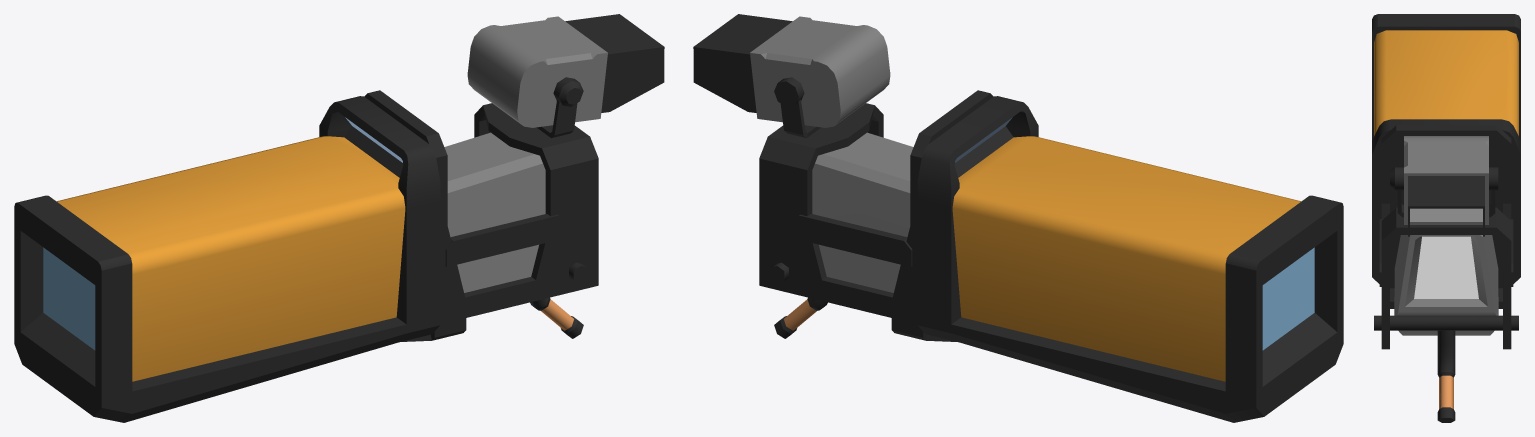
File: camara.fbx
3 renders of one model, left to right at view 1: azimuth 30°, elevation 25°; view 2: azimuth 150°, elevation 25°; view 3: azimuth 270°, elevation 25°, orthographic. The views are drawn at different scales.
Visible parts, largest first — view 1: Cube.001, Cube, Cube.003, Cube.002, Cylinder.003, Cylinder.004, Cylinder.001; view 2: Cube.001, Cube, Cube.003, Cube.002, Cylinder.003, Cylinder.004, Cylinder.001; view 3: Cube.001, Cube.002, Cube.003, Cube, Cube.004, Cylinder.003, Cylinder.001, Cylinder.004.
Part boxes in pixels (x1=…): Cube.001: x1=14, y1=96, x2=440, y2=422; Cube: x1=364, y1=90, x2=598, y2=341; Cube.003: x1=467, y1=14, x2=664, y2=127; Cube.002: x1=444, y1=132, x2=545, y2=292; Cylinder.003: x1=530, y1=297, x2=583, y2=338; Cylinder.004: x1=537, y1=99, x2=577, y2=138; Cylinder.001: x1=553, y1=77, x2=583, y2=106; Cube.001: x1=917, y1=96, x2=1343, y2=422; Cube: x1=759, y1=90, x2=993, y2=341; Cube.003: x1=693, y1=14, x2=890, y2=127; Cube.002: x1=812, y1=132, x2=913, y2=292; Cylinder.003: x1=774, y1=297, x2=827, y2=338; Cylinder.004: x1=780, y1=99, x2=820, y2=138; Cylinder.001: x1=774, y1=77, x2=804, y2=107; Cube.001: x1=1372, y1=14, x2=1520, y2=288; Cube.002: x1=1394, y1=235, x2=1498, y2=335; Cube.003: x1=1404, y1=136, x2=1488, y2=236; Cube: x1=1379, y1=125, x2=1513, y2=349; Cube.004: x1=1374, y1=315, x2=1518, y2=330; Cylinder.003: x1=1437, y1=330, x2=1455, y2=422; Cylinder.001: x1=1390, y1=167, x2=1498, y2=190; Cylinder.004: x1=1397, y1=190, x2=1495, y2=217.
Bounding box in the file's own units: 140 × 70.41 × 36.33.
